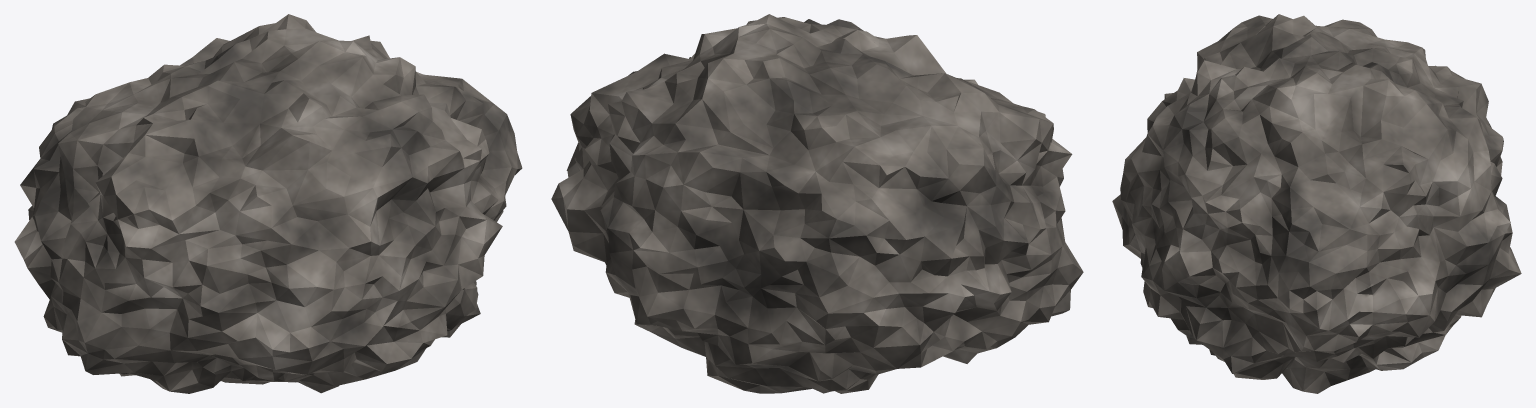
File: Asteroide6.fbx
3 views of the same model, side by side, from view 1: azimuth 30°, elevation 25°; view 2: azimuth 150°, elevation 25°; view 3: azimuth 270°, elevation 25° (orthographic). The views are drawn at different scales.
Visible parts, largest first — view 1: Asteroide6; view 2: Asteroide6; view 3: Asteroide6.
Part boxes in pixels (x1,y1,x2,y2): Asteroide6: (14, 14, 522, 393); Asteroide6: (551, 14, 1083, 393); Asteroide6: (1112, 14, 1521, 393).
Bounding box in the file's own units: 190 × 129 × 155.
